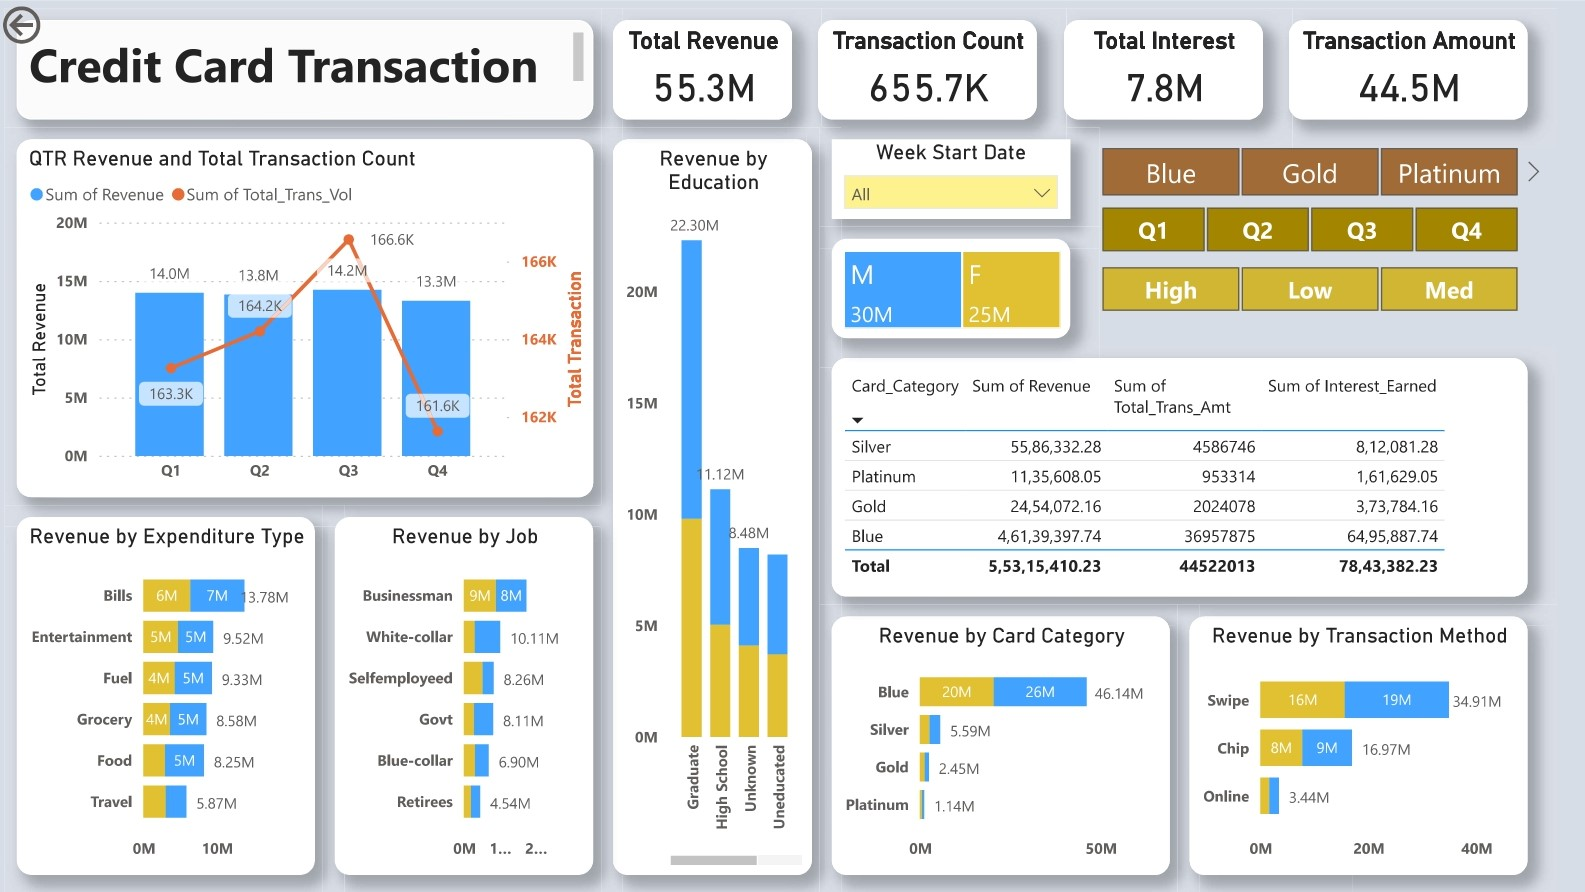

What the dashboard file says about the page in this screenshot:
{"tool":"powerbi","page":{"name":"CC Transaction","canvas":[1280,720],"ordinal":1},"visuals":[{"type":"textbox","box":[16,16,464,80],"z":0},{"type":"lineStackedColumnComboChart","title":"QTR Revenue and Total Transaction Count","fields":{"Category":["credit_card.Qtr"],"Y":["Sum(credit_card.Revenue)"],"Y2":["Sum(credit_card.Total_Trans_Vol)"]},"box":[16,112,464,288],"z":1000},{"type":"barChart","title":"Revenue by Expenditure Type","fields":{"Y":["Sum(credit_card.Revenue)"],"Category":["credit_card.Exp Type"],"Series":["customer.Gender"]},"box":[16,416,240,288],"z":2000},{"type":"columnChart","title":"Revenue by Education","fields":{"Category":["customer.Education_Level"],"Y":["Sum(credit_card.Revenue)"],"Series":["customer.Gender"]},"box":[496,112,160,592],"z":3000},{"type":"barChart","title":"Revenue by Job","fields":{"Y":["Sum(credit_card.Revenue)"],"Category":["customer.Customer_Job"],"Series":["customer.Gender"]},"box":[272,416,208,288],"z":4000},{"type":"barChart","title":"Revenue by Card Category","fields":{"Y":["Sum(credit_card.Revenue)"],"Category":["credit_card.Card_Category"],"Series":["customer.Gender"]},"box":[672,496,272,208],"z":5000},{"type":"barChart","title":"Revenue by Transaction Method","fields":{"Y":["Sum(credit_card.Revenue)"],"Category":["credit_card.Use Chip"],"Series":["customer.Gender"]},"box":[960,496,272,208],"z":6000},{"type":"tableEx","fields":{"Values":["credit_card.Card_Category","Sum(credit_card.Revenue)","Sum(credit_card.Total_Trans_Amt)","Sum(credit_card.Interest_Earned)"]},"box":[672,288,560,192],"z":7000},{"type":"card","title":"Total Revenue","fields":{"Values":["Sum(credit_card.Revenue)"]},"box":[496,16,144,80],"z":8000},{"type":"card","title":"Transaction Amount","fields":{"Values":["Sum(credit_card.Total_Trans_Amt)"]},"box":[1040,16,192,80],"z":9000},{"type":"card","title":"Total Interest","fields":{"Values":["Sum(credit_card.Interest_Earned)"]},"box":[858.7,16,160,80],"z":10000},{"type":"card","title":"Transaction Count","fields":{"Values":["Sum(credit_card.Total_Trans_Vol)"]},"box":[661.3,16,176,80],"z":11000},{"type":"slicer","title":"Week Start Date","fields":{"Values":["credit_card.Week_Start_Date"]},"box":[672,112,192,64],"z":12000},{"type":"treemap","fields":{"Group":["customer.Gender"],"Values":["Sum(credit_card.Revenue)"]},"box":[672,192,192,80],"z":13000},{"type":"slicer","fields":{"Values":["credit_card.Card_Category"]},"box":[864,112,384,48],"z":14000},{"type":"slicer","fields":{"Values":["credit_card.Qtr"]},"box":[864,160,384,48],"z":15000},{"type":"slicer","fields":{"Values":["customer.Income_Group"]},"box":[864,208,384,48],"z":16000},{"type":"actionButton","box":[0,0,100,40],"z":17000}]}

Visuals, with their boxes in screenshot pixels (x1, y1, x2, y2), scaled from the page's 1280x720 canvas onto the 1585x892 screenshot:
textbox: (20, 20, 594, 119)
"QTR Revenue and Total Transaction Count" lineStackedColumnComboChart: (20, 139, 594, 496)
"Revenue by Expenditure Type" barChart: (20, 515, 317, 872)
"Revenue by Education" columnChart: (614, 139, 812, 872)
"Revenue by Job" barChart: (337, 515, 594, 872)
"Revenue by Card Category" barChart: (832, 614, 1169, 872)
"Revenue by Transaction Method" barChart: (1189, 614, 1526, 872)
tableEx - credit_card.Card_Category x Sum(credit_card.Revenue): (832, 357, 1526, 595)
"Total Revenue" card: (614, 20, 792, 119)
"Transaction Amount" card: (1288, 20, 1526, 119)
"Total Interest" card: (1063, 20, 1261, 119)
"Transaction Count" card: (819, 20, 1037, 119)
"Week Start Date" slicer: (832, 139, 1070, 218)
treemap - customer.Gender x Sum(credit_card.Revenue): (832, 238, 1070, 337)
slicer - credit_card.Card_Category: (1070, 139, 1545, 198)
slicer - credit_card.Qtr: (1070, 198, 1545, 258)
slicer - customer.Income_Group: (1070, 258, 1545, 317)
actionButton: (0, 0, 124, 50)
